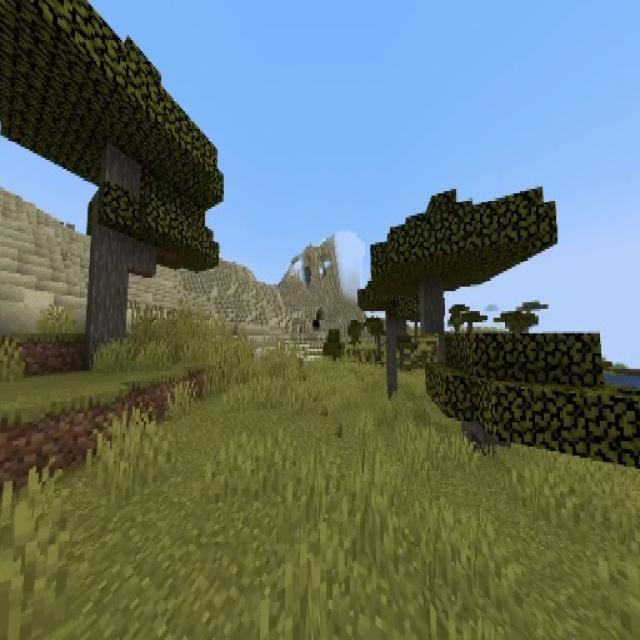acacia: (0, 0, 224, 368), (372, 186, 640, 466), (358, 264, 424, 397)
acacia_log: (88, 226, 130, 360), (418, 275, 446, 331), (104, 155, 138, 195), (385, 312, 398, 398)
